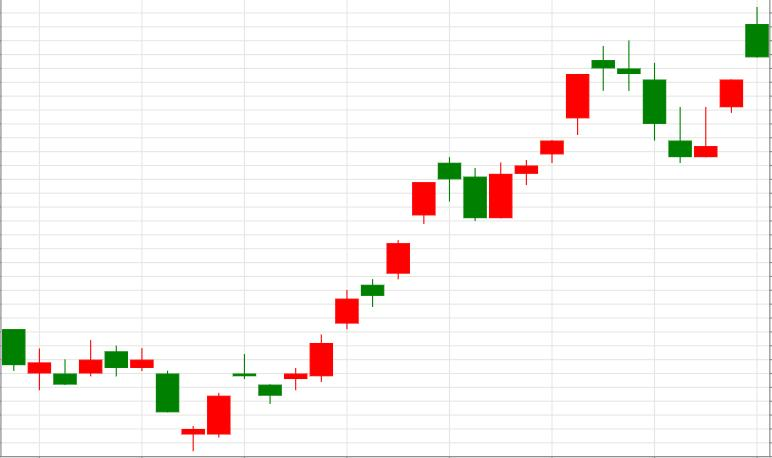evening_star_fall: (284, 157, 486, 390)
